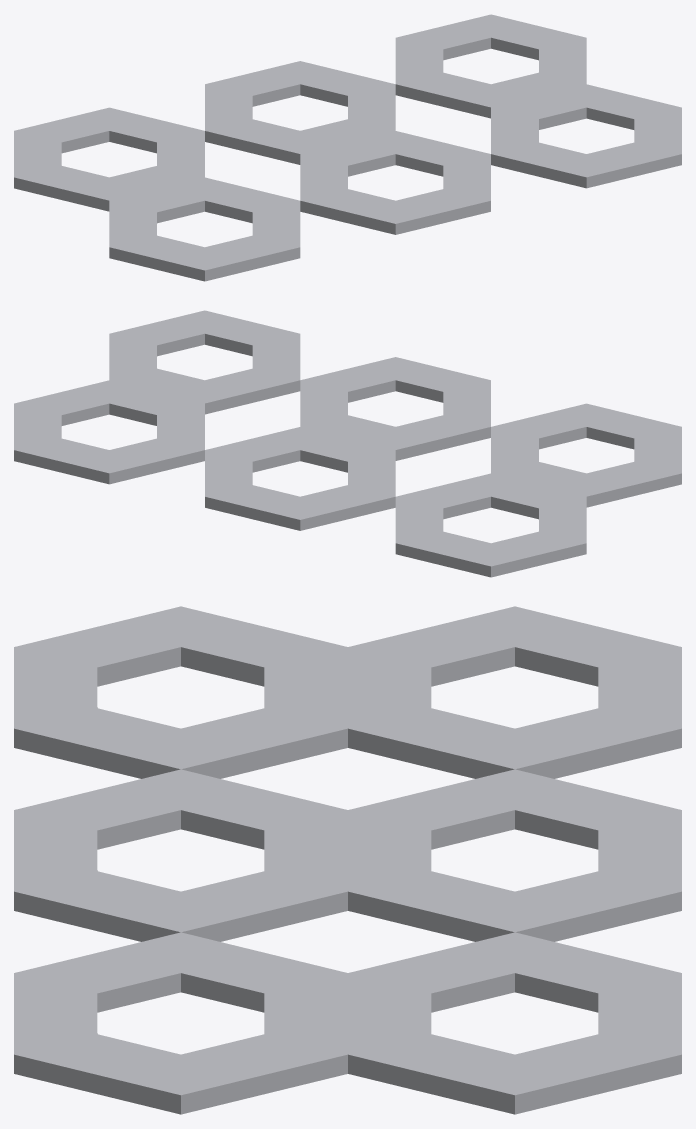
File: plastic rings.fbx
The picture shows the model from 3 angles, top to bottom: view 1: azimuth 30°, elevation 25°; view 2: azimuth 150°, elevation 25°; view 3: azimuth 270°, elevation 25°; orthographic projection. The views are drawn at different scales.
Visible parts, largest first — view 1: pPipe6; view 2: pPipe6; view 3: pPipe6.
Boxes of the visible parts, left/top/right/bottom form: pPipe6: left=14, top=14, right=681, bottom=281; pPipe6: left=14, top=310, right=681, bottom=577; pPipe6: left=14, top=606, right=681, bottom=1114.
Bounding box in the file's own units: 6 × 0.1104 × 3.46.
